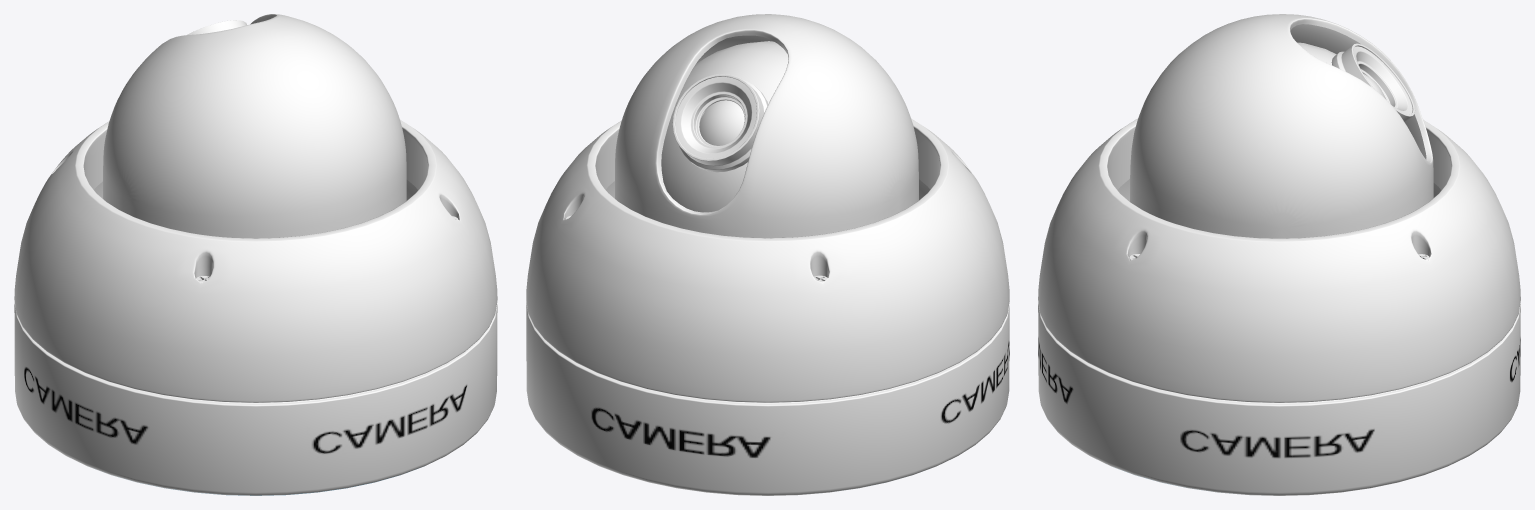
The model's file is 360qiuji2.gltf.
The picture shows the model from 3 angles, left to right: view 1: azimuth 30°, elevation 25°; view 2: azimuth 150°, elevation 25°; view 3: azimuth 270°, elevation 25°; orthographic projection.
Parts seen in each view (by area): view 1: Obj3d66-828025-78-558; view 2: Obj3d66-828025-78-558; view 3: Obj3d66-828025-78-558.
Boxes of the visible parts, x1,y1,x2,y2 form: Obj3d66-828025-78-558: (14,14,497,495); Obj3d66-828025-78-558: (526,14,1009,495); Obj3d66-828025-78-558: (1038,14,1520,495).
Bounding box in the file's own units: 178 × 150 × 178.
1 material, 1 textured.
